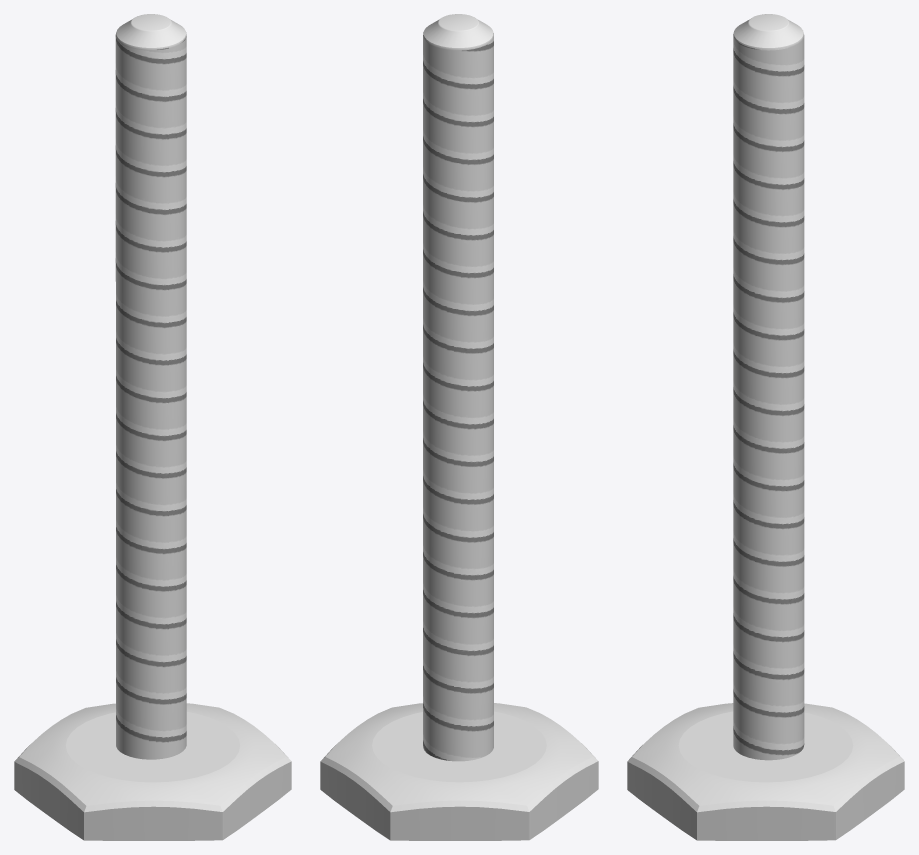
Rendered from screwx10.fbx.
3 renders of one model, left to right at view 1: azimuth 30°, elevation 25°; view 2: azimuth 150°, elevation 25°; view 3: azimuth 270°, elevation 25°, orthographic.
Visible parts, largest first — view 1: Renderer_02.003, Nut 1.010; view 2: Renderer_02.003, Nut 1.010; view 3: Renderer_02.003, Nut 1.010.
Boxes of the visible parts, bbox=[...] form: Renderer_02.003: bbox=[115, 14, 186, 759]; Nut 1.010: bbox=[14, 703, 291, 840]; Renderer_02.003: bbox=[423, 14, 493, 761]; Nut 1.010: bbox=[320, 703, 598, 840]; Renderer_02.003: bbox=[733, 14, 804, 760]; Nut 1.010: bbox=[627, 703, 904, 840].
Size of the model in its own units: 2.37 by 8.24 by 2.7.
